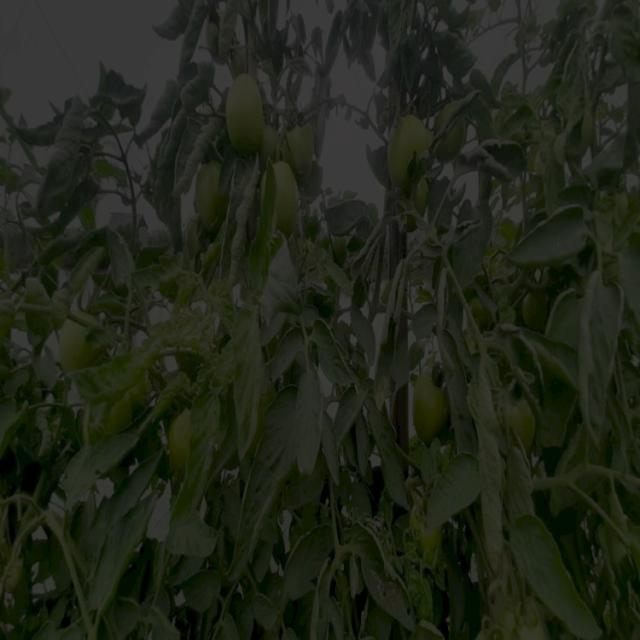tomato: (389, 90, 475, 225), (51, 295, 117, 383), (501, 390, 555, 474), (413, 359, 460, 447), (258, 166, 305, 248), (166, 406, 209, 491), (395, 493, 445, 565), (223, 71, 266, 152), (190, 160, 229, 230), (275, 114, 321, 162), (572, 107, 605, 165), (518, 291, 552, 332), (8, 558, 31, 597), (471, 297, 498, 330)
